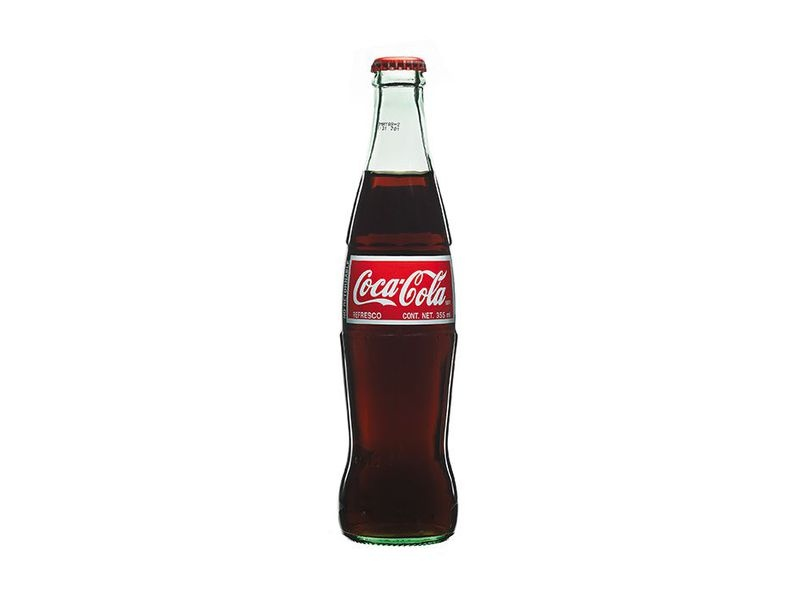Glass bottle: (289, 42, 506, 546)
